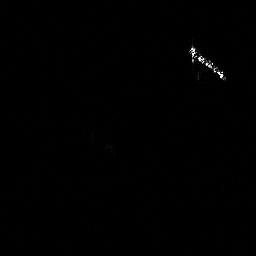ship: (185, 43, 231, 84)
